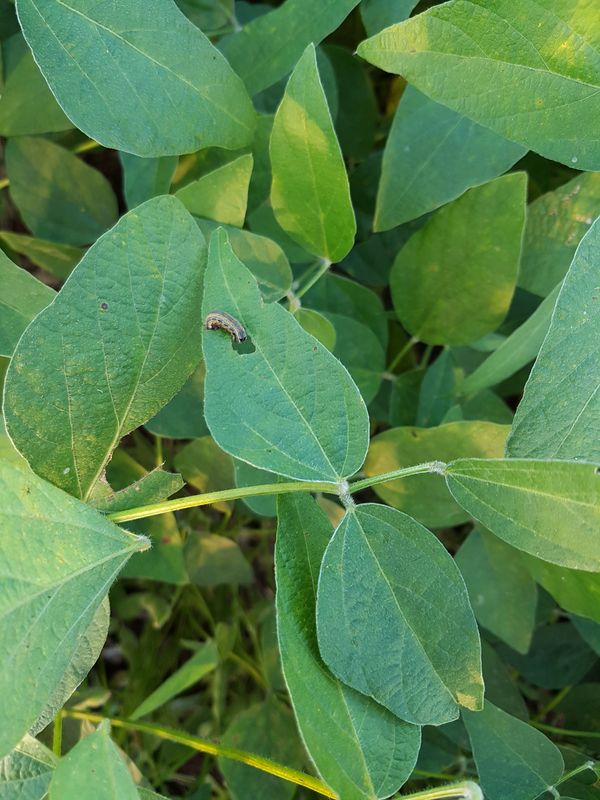Spodoptera_albula: (194, 301, 258, 356)
